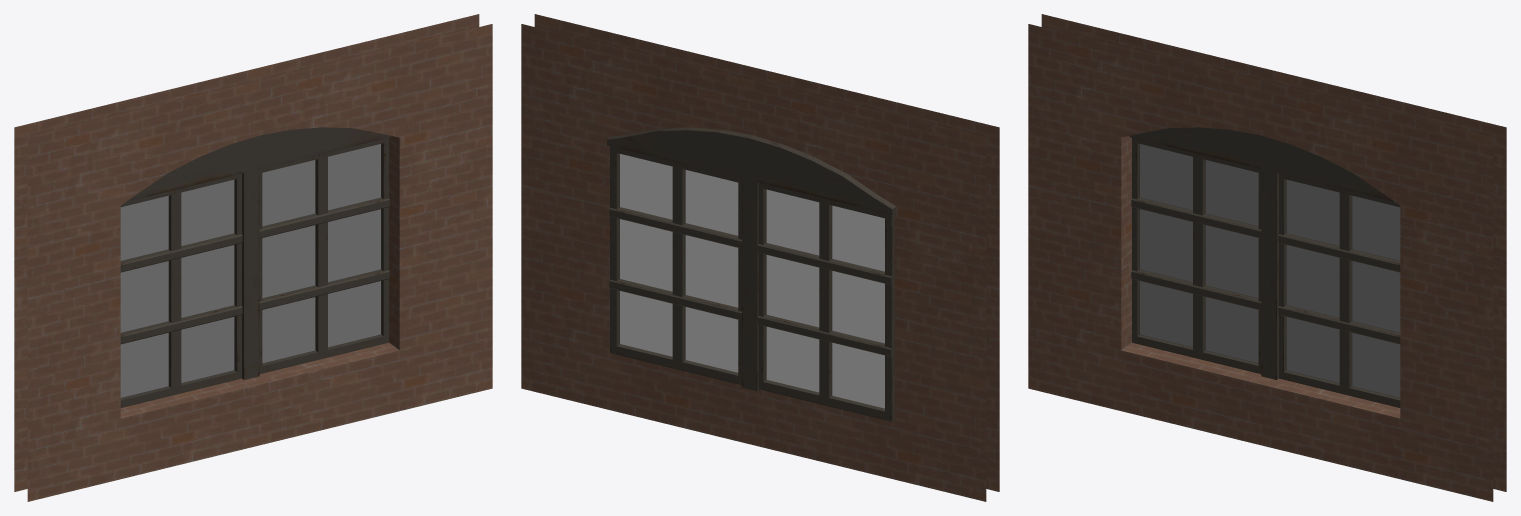
The model's file is Brick_Window_CurvedDouble.glb.
The picture shows the model from 3 angles, left to right: view 1: azimuth 30°, elevation 25°; view 2: azimuth 150°, elevation 25°; view 3: azimuth 330°, elevation 25°; orthographic projection.
Visible parts, largest first — view 1: Brick_Window_CurvedDouble; view 2: Brick_Window_CurvedDouble; view 3: Brick_Window_CurvedDouble.
Boxes of the visible parts, left/top/right/bottom form: Brick_Window_CurvedDouble: left=14, top=14, right=492, bottom=501; Brick_Window_CurvedDouble: left=521, top=14, right=999, bottom=501; Brick_Window_CurvedDouble: left=1028, top=14, right=1506, bottom=501.
Size of the model in its own units: 4 by 3 by 0.2605.
4 materials, 2 textured.
